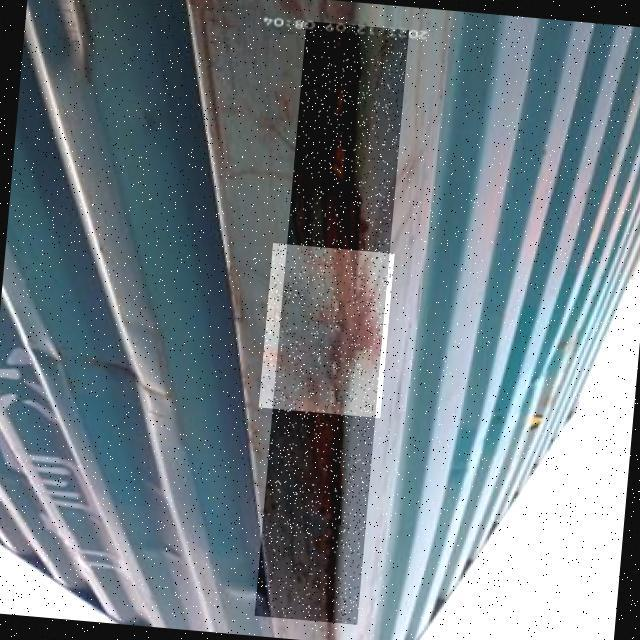Dent: (258, 243, 394, 418)
Rust: (254, 21, 409, 625)
